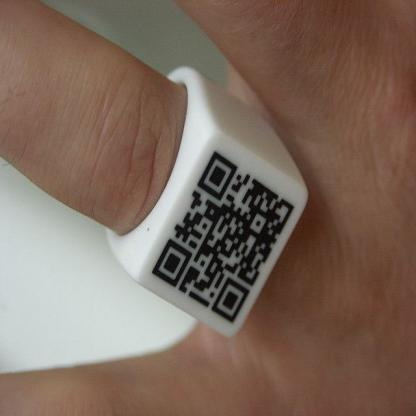qr_code: (150, 150, 295, 324)
